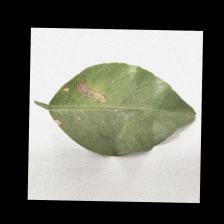canker: (61, 78, 129, 124)
